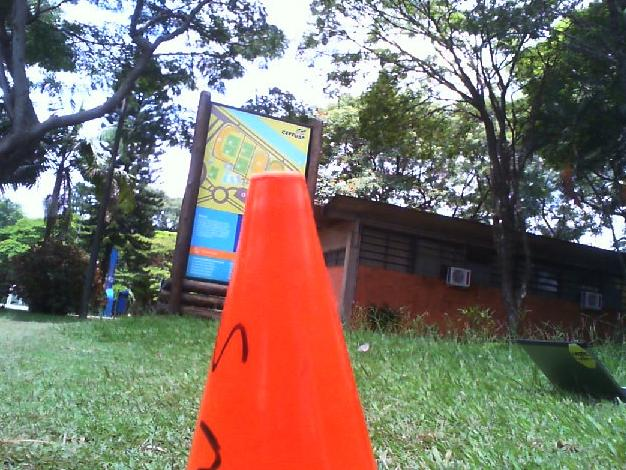0 cone: (184, 172, 377, 470)
